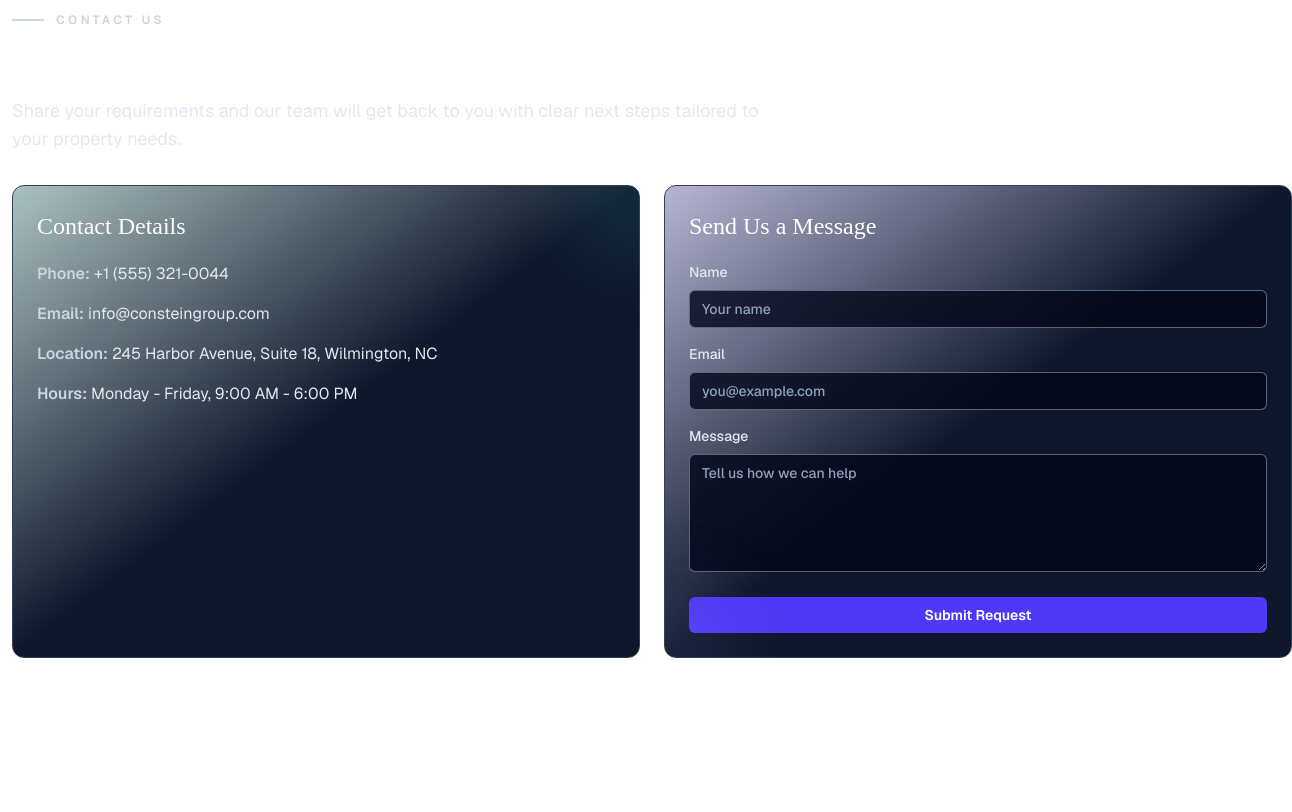
Scenario: ContactSection › submits contact form and shows success message
Step 1. Type "Alex Carter" into the field with placeholder "Your name" → (978, 309), box [689,290,1267,328]
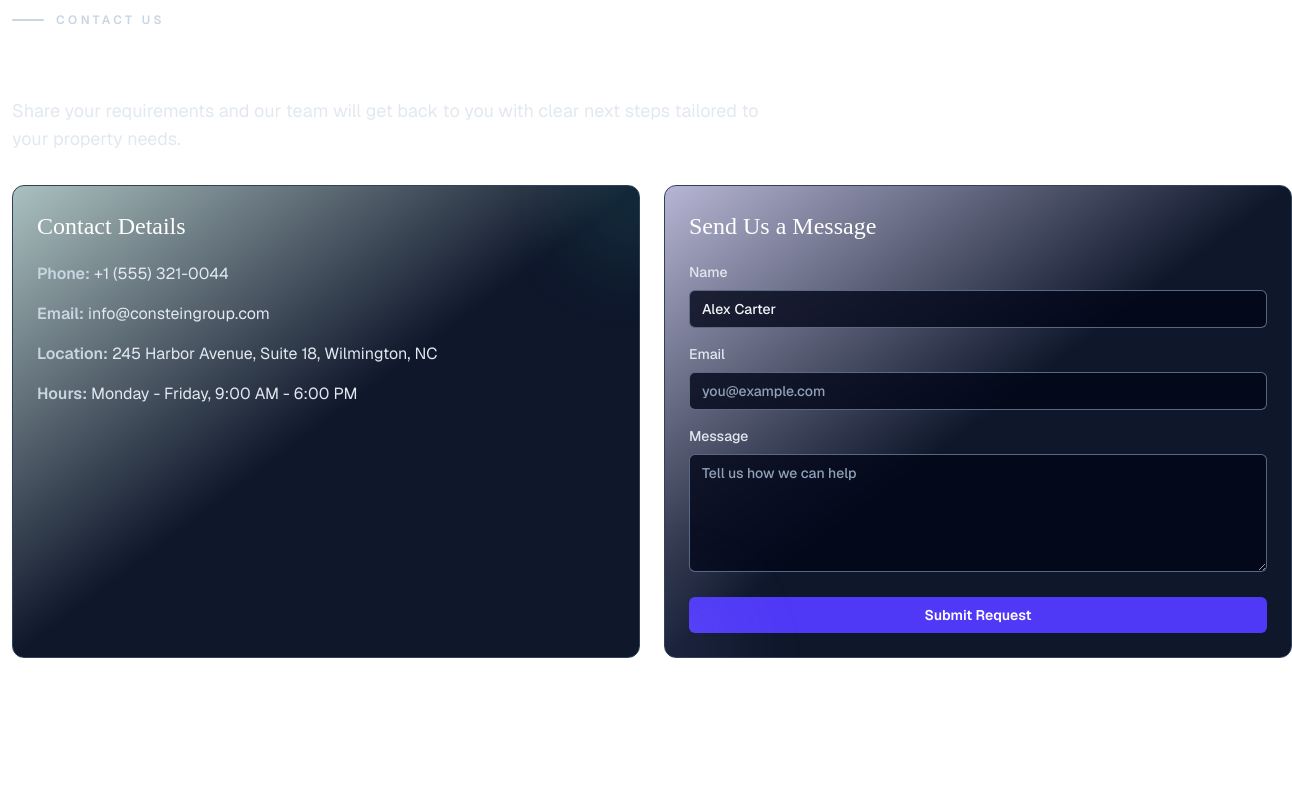
Step 2. Type "alex@example.com" into the field with placeholder "you@example.com" → (978, 391), box [689,372,1267,410]
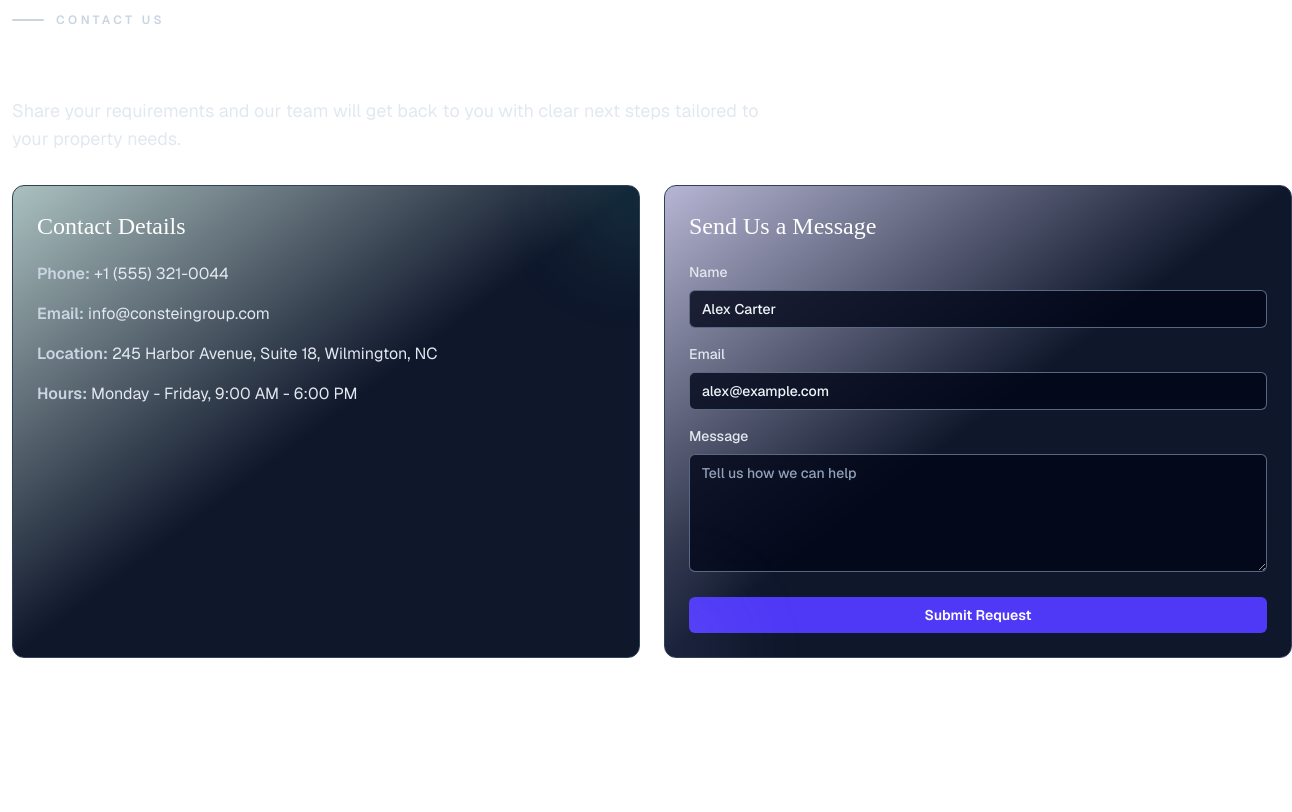
Step 3. Type "Need an inspection for a new property." into the text box with placeholder "Tell us how we can help" → (978, 513), box [689,454,1267,572]
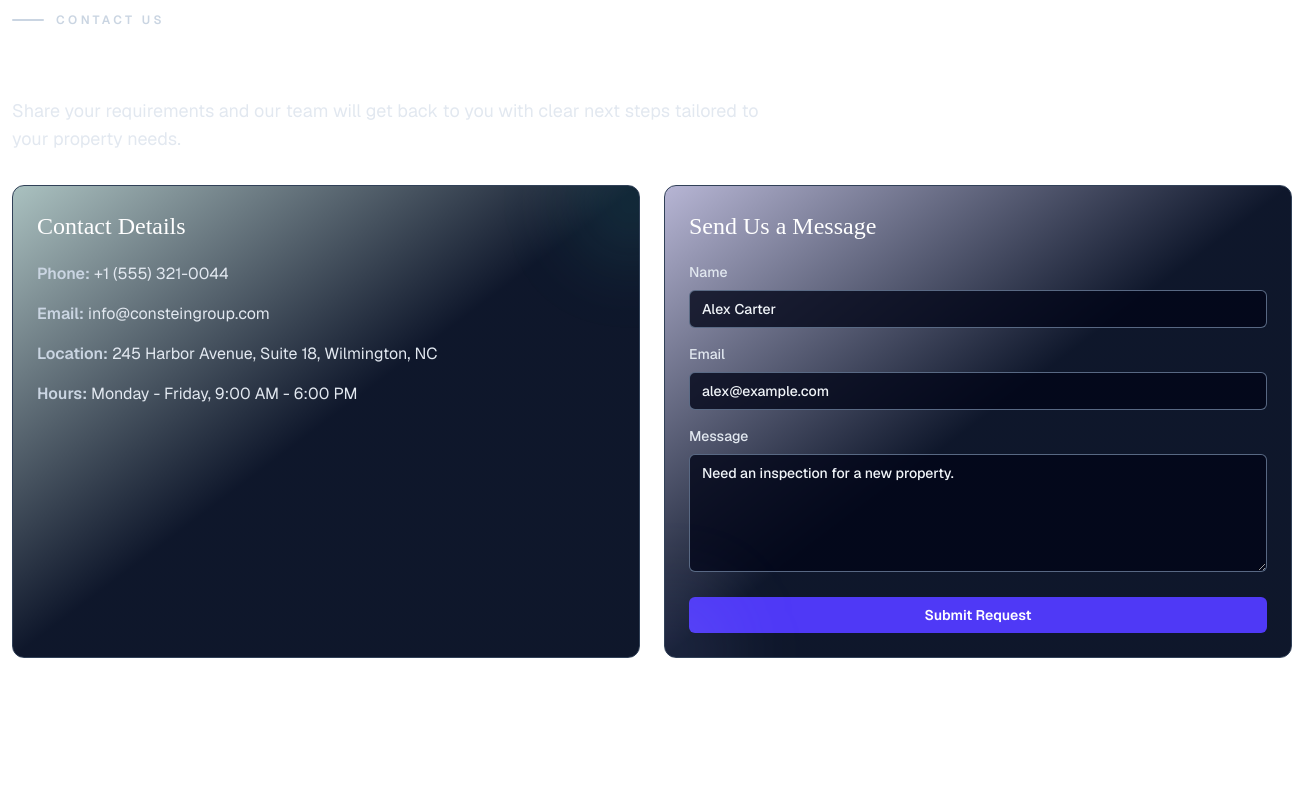
Step 4. Click the button "Submit Request" → (978, 615), box [689,597,1267,633]
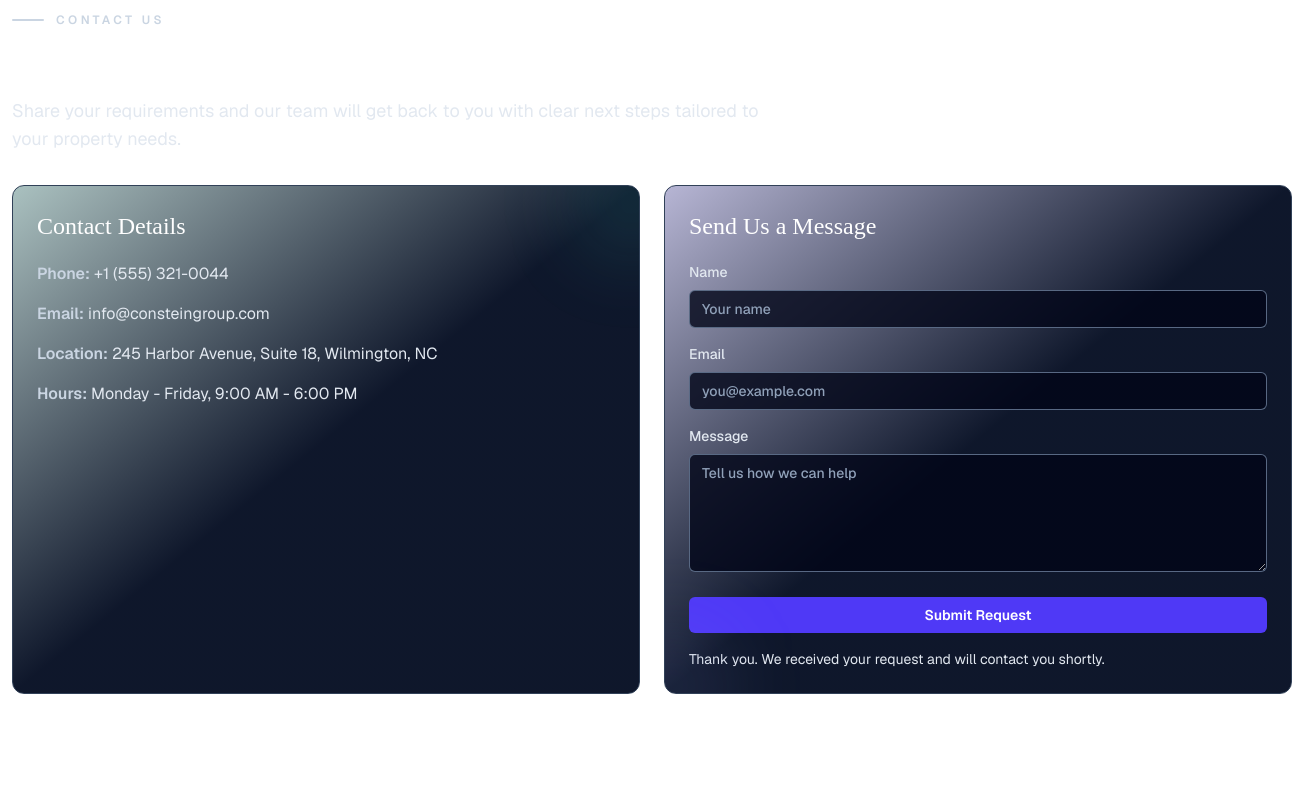
Result: the text "Thank you. We received your request and will contact you shortly." is shown at [689,650,1105,668]
Result: the field with placeholder "Your name" is empty at [689,290,1267,328]
Result: the field with placeholder "you@example.com" is empty at [689,372,1267,410]
